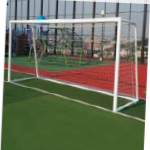goals: (8, 17, 140, 112)
